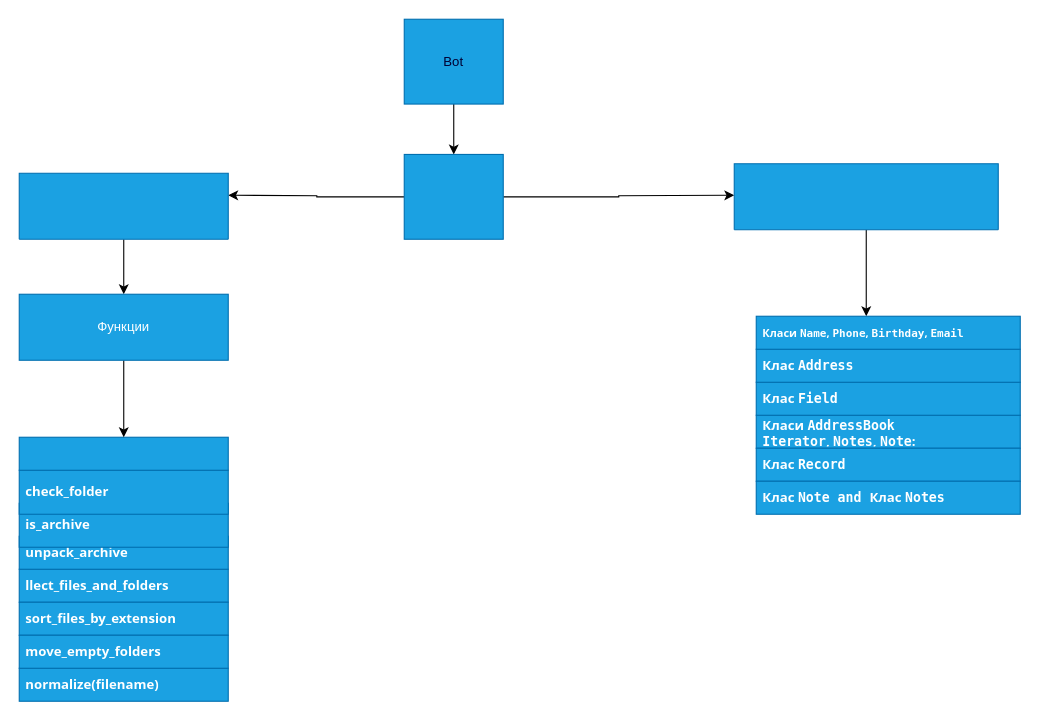
Some shapes in this 1040 by 721 pixel diagram are drawn without their labels. Each missing label, with the box of its shape:
sort_files(folder_path):: (18, 436, 228, 470)
Sotrer file: (18, 172, 228, 239)
Класи: (733, 163, 998, 230)
Функционал бота: (403, 153, 503, 239)
